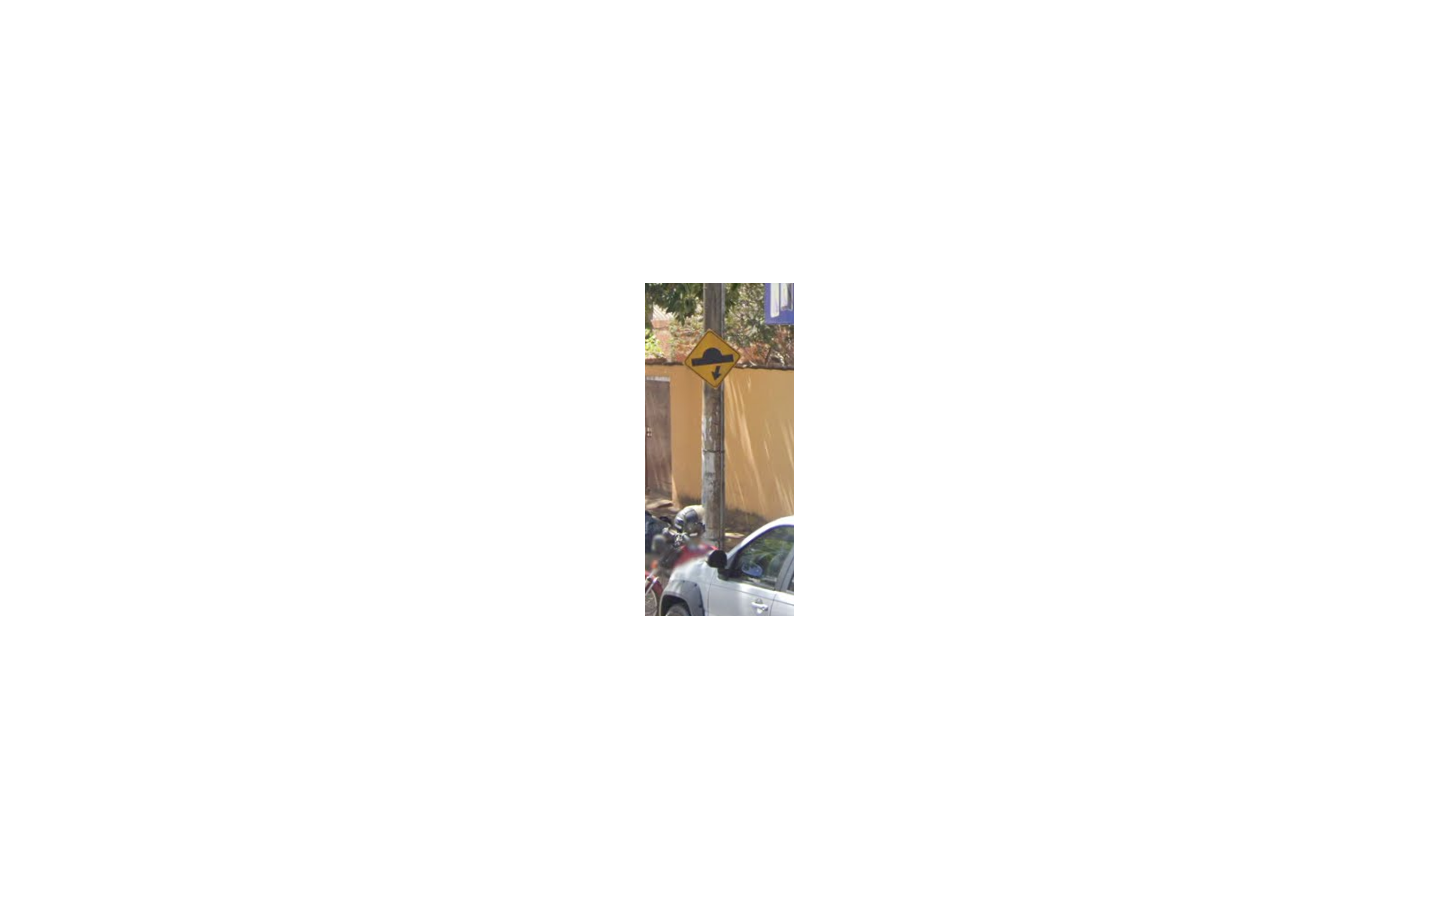lomb: (684, 329, 742, 389)
